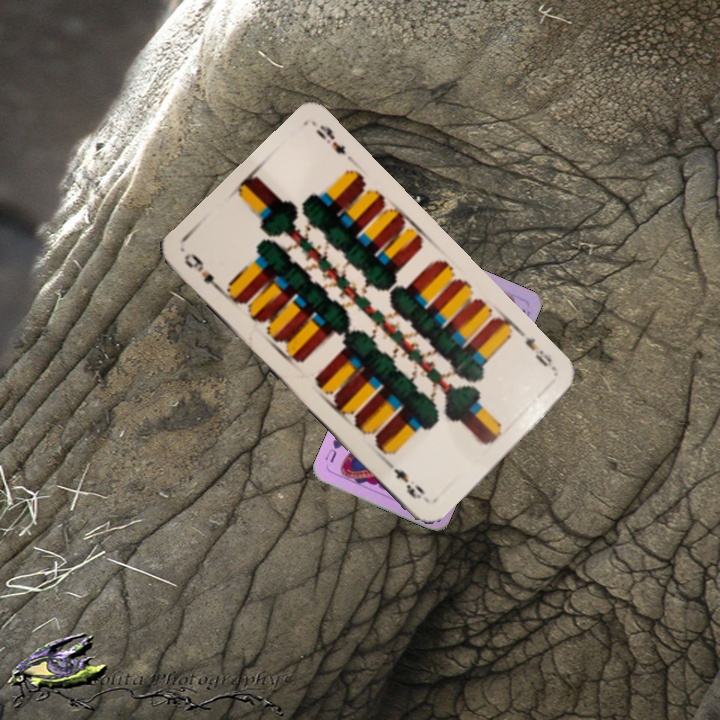E9: (179, 249, 226, 296), (520, 333, 559, 377)
